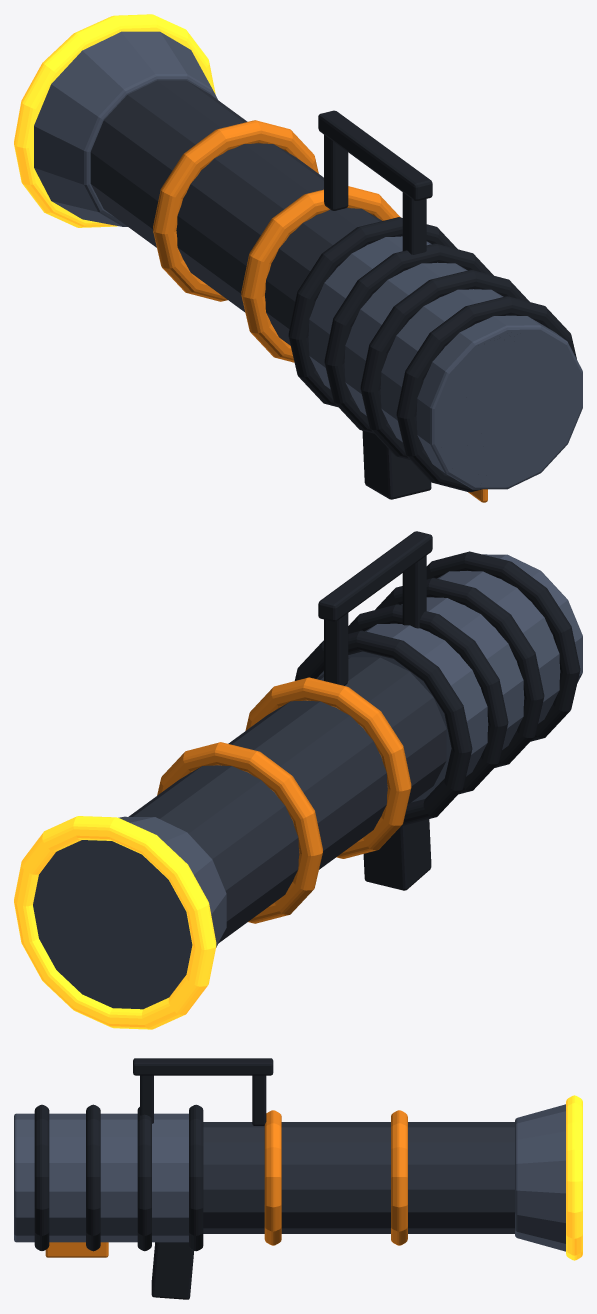
File: wpn_1_thumper.glb
3 renders of one model, top to bottom at view 1: azimuth 30°, elevation 25°; view 2: azimuth 150°, elevation 25°; view 3: azimuth 270°, elevation 25°, orthographic. The views are drawn at different scales.
Parts seen in each view (by area): view 1: wpn_1_thumper; view 2: wpn_1_thumper; view 3: wpn_1_thumper.
Part boxes in pixels (x1,y1,x2,y2): wpn_1_thumper: [14, 14, 582, 502]; wpn_1_thumper: [14, 531, 582, 1029]; wpn_1_thumper: [14, 1058, 582, 1299].
Bounding box in the file's own units: 0.236 × 0.3667 × 0.8121.
